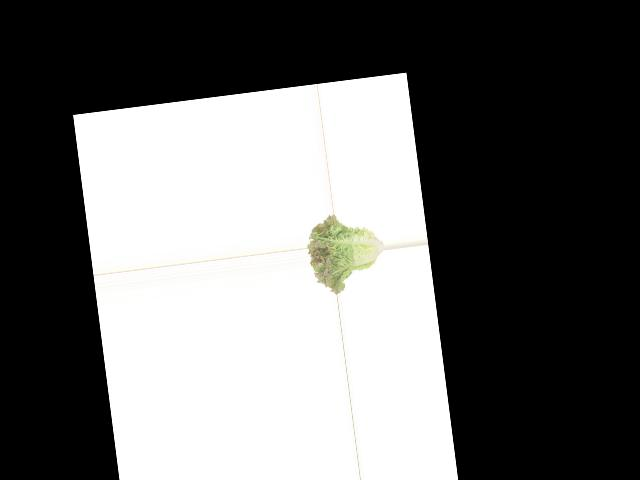lettuce: (304, 209, 389, 297)
